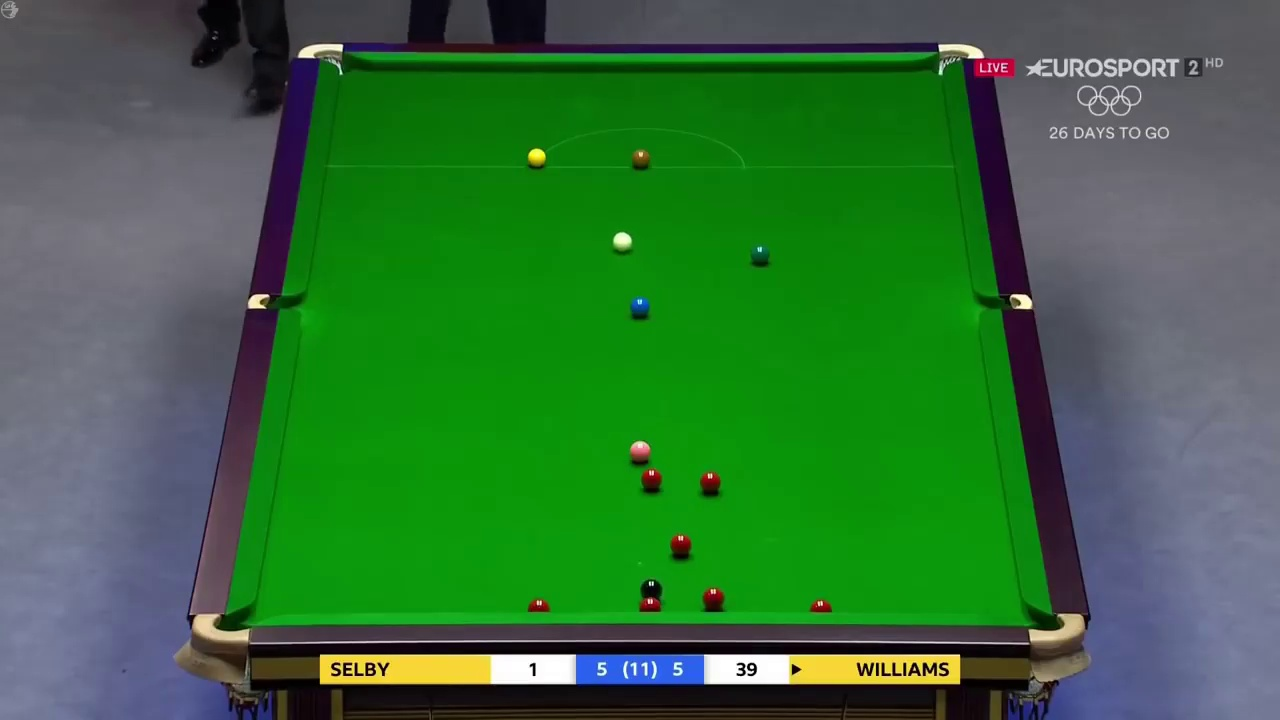ball: (629, 438, 650, 463), (750, 241, 773, 263), (703, 586, 725, 609), (611, 230, 632, 251), (672, 532, 690, 555), (699, 471, 719, 490), (525, 147, 547, 164), (633, 147, 651, 167), (631, 296, 647, 317), (643, 470, 660, 489)
